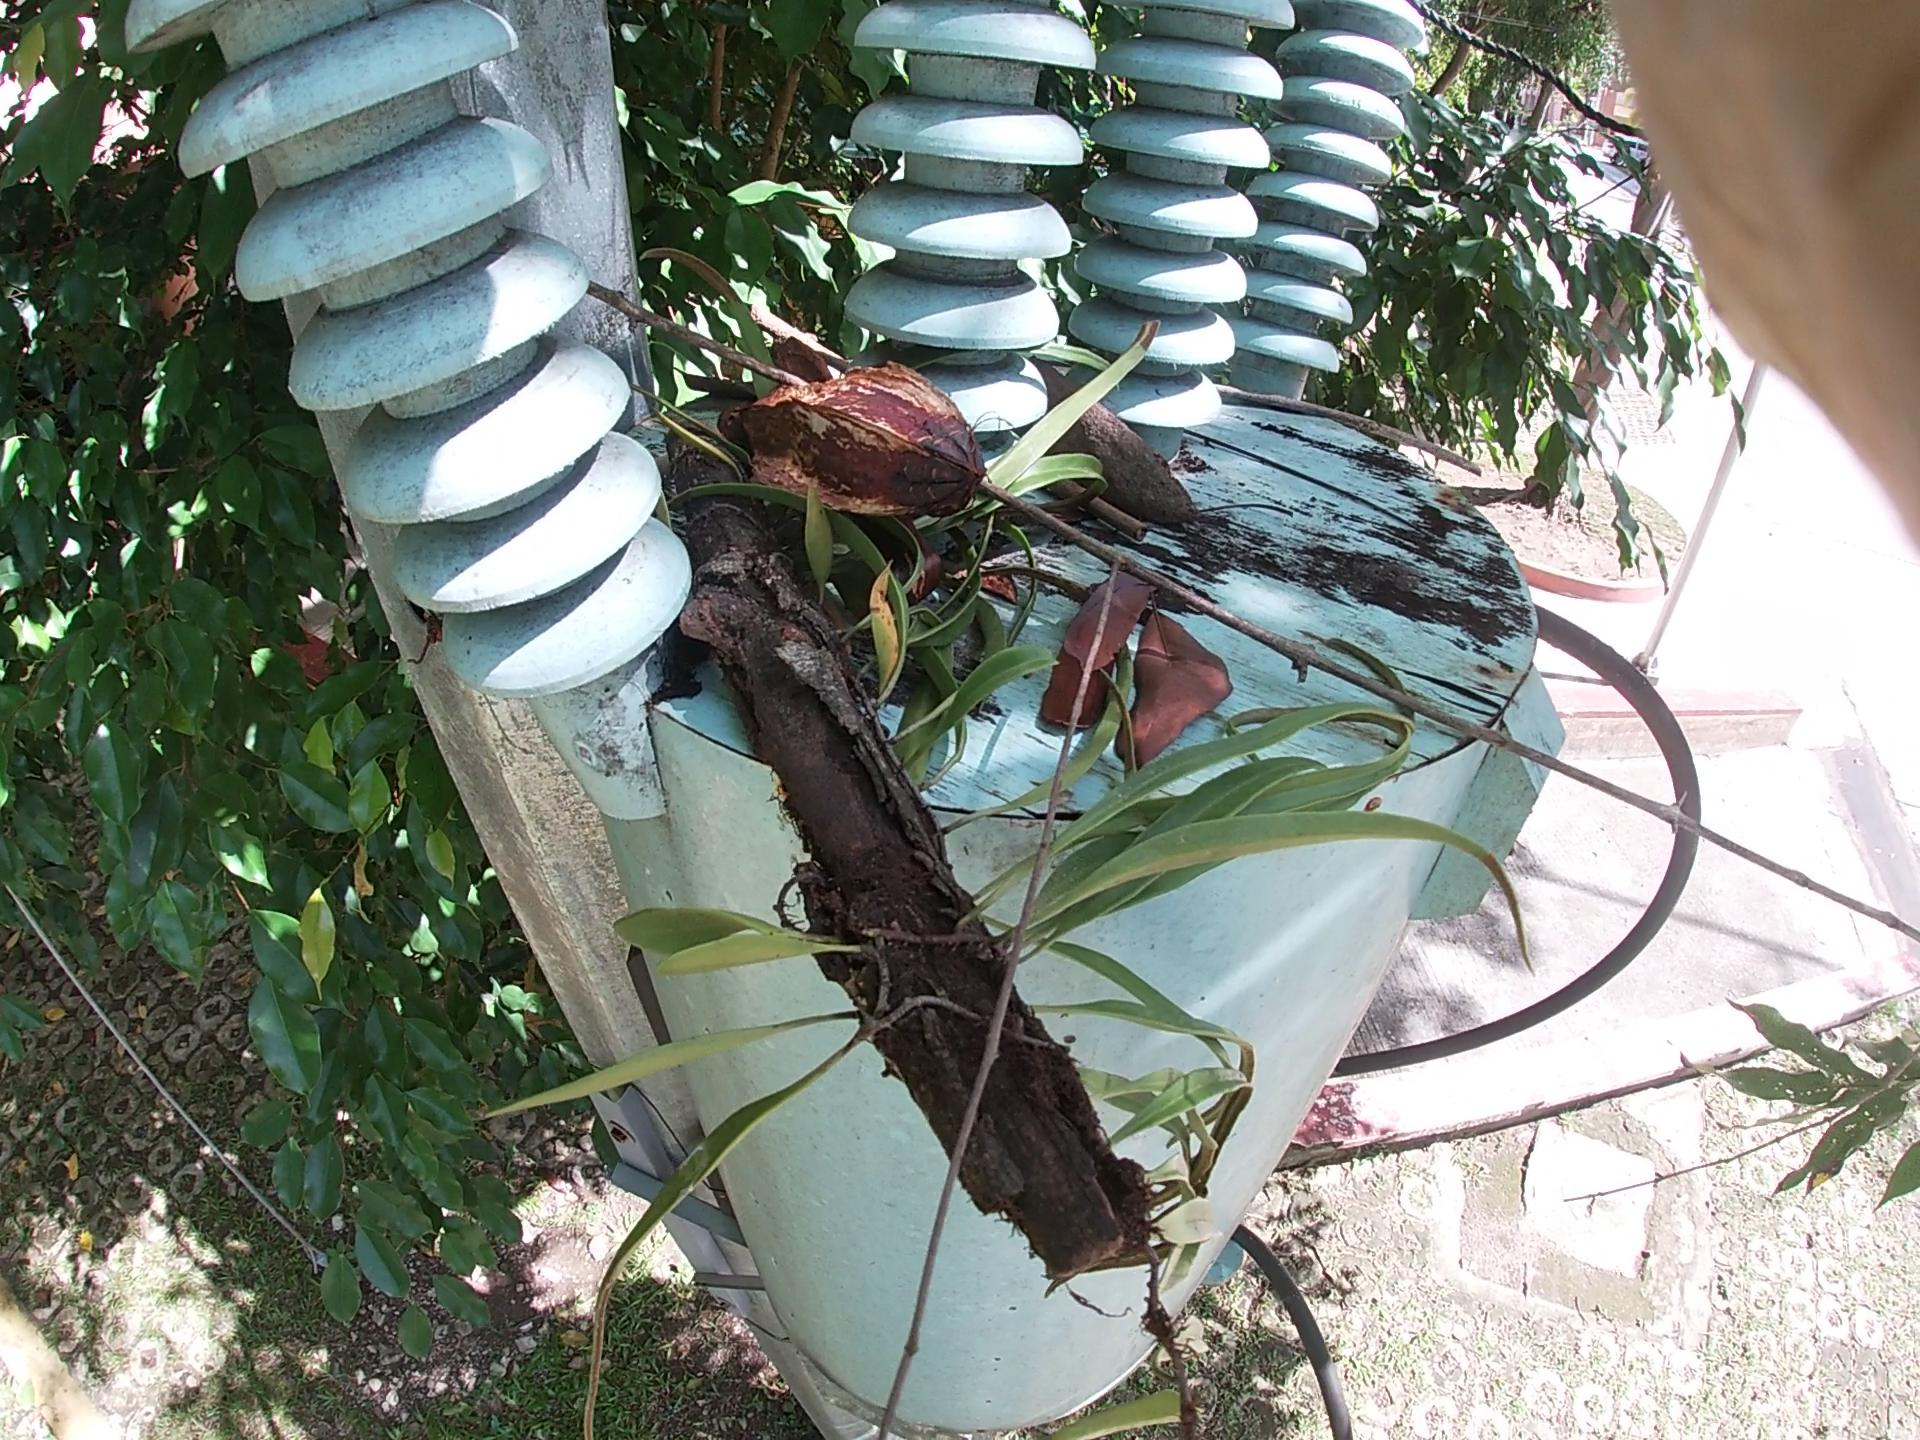branch with leaves: (630, 266, 1160, 1330)
leaf: (943, 483, 1240, 844)
mahogany fruit: (996, 262, 1259, 585), (668, 360, 1023, 532)
tree branch: (670, 296, 1619, 853), (1184, 357, 1448, 464), (972, 374, 1120, 545)
